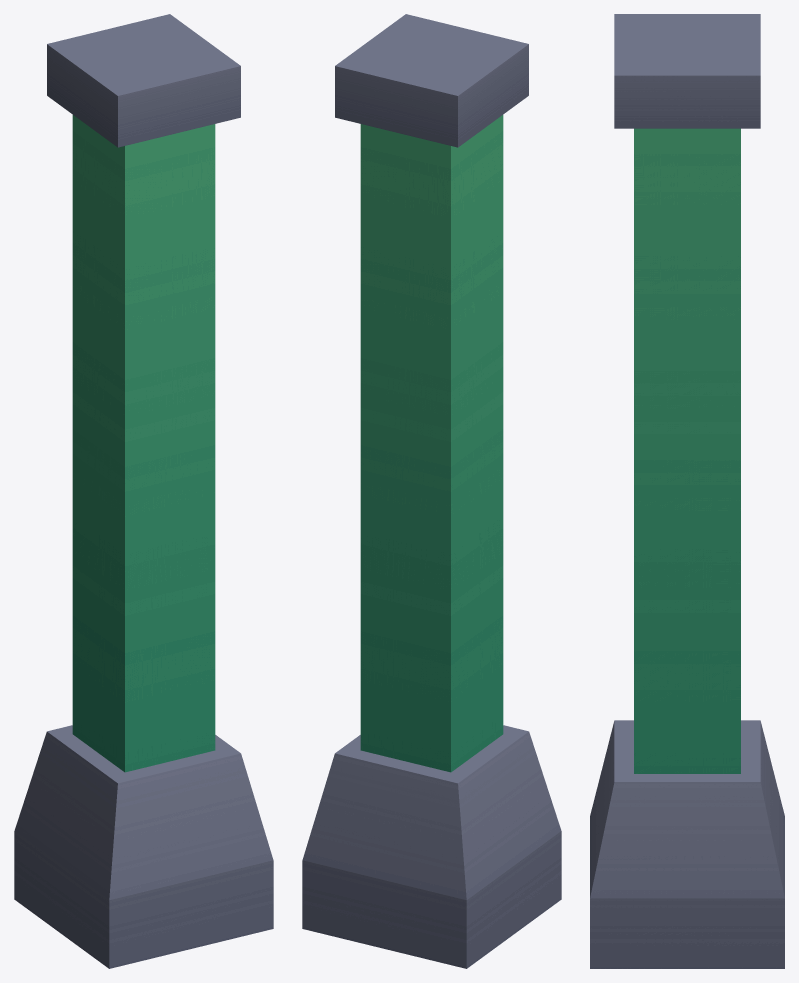
Rendered from bridge_pillar.glb.
3 renders of one model, left to right at view 1: azimuth 30°, elevation 25°; view 2: azimuth 150°, elevation 25°; view 3: azimuth 270°, elevation 25°, orthographic. The views are drawn at different scales.
Visible parts, largest first — view 1: bridge-pillar; view 2: bridge-pillar; view 3: bridge-pillar.
Part boxes in pixels (box(x1,y1,x2,y2)): bridge-pillar: box(14, 14, 273, 968); bridge-pillar: box(302, 14, 561, 968); bridge-pillar: box(590, 14, 784, 968).
Bounding box in the file's own units: 0.1 × 0.5 × 0.1.
Materials: 1 (1 with a texture image).
